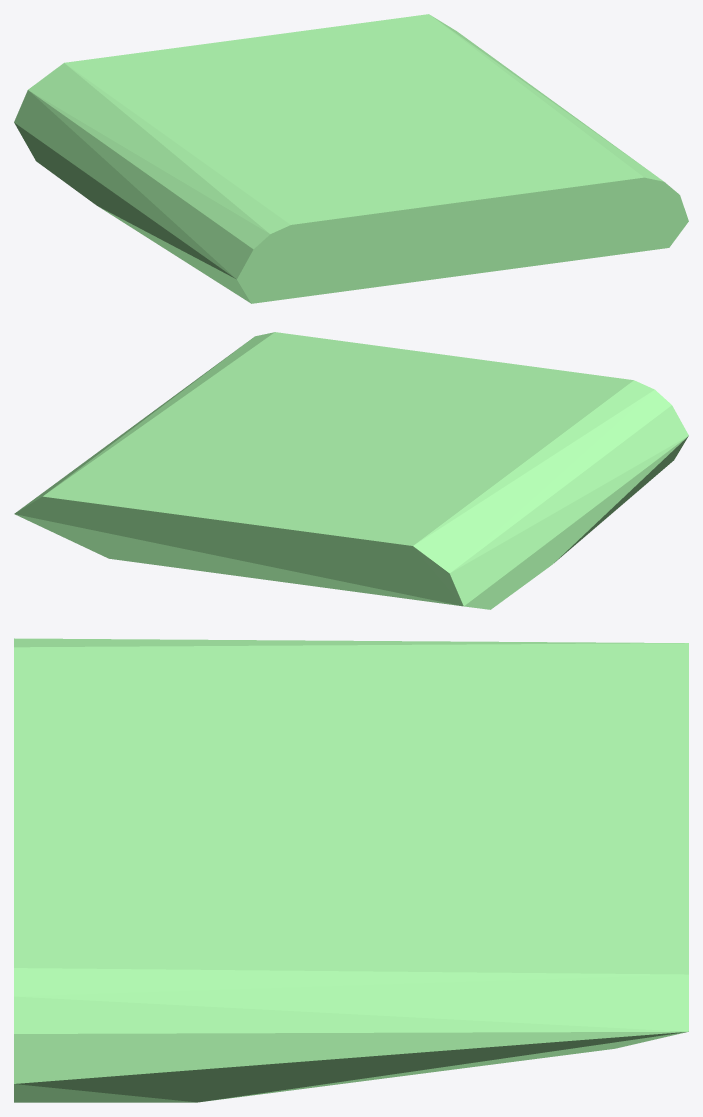
File: UMIRobot_robot_base_coll_15.dae
The picture shows the model from 3 angles, top to bottom: view 1: azimuth 30°, elevation 25°; view 2: azimuth 150°, elevation 25°; view 3: azimuth 270°, elevation 25°; orthographic projection. The views are drawn at different scales.
Parts seen in each view (by area): view 1: node; view 2: node; view 3: node.
Part boxes in pixels (x1,y1,x2,y2): node: (14, 14, 688, 303); node: (14, 332, 688, 609); node: (14, 638, 688, 1102).
Size of the model in its own units: 0.065 by 0.0158 by 0.055.
